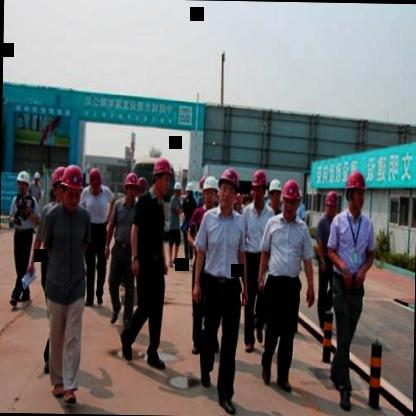helmet: (342, 168, 366, 214), (148, 152, 172, 196), (60, 165, 84, 207), (217, 165, 238, 209), (280, 176, 300, 218), (249, 166, 269, 206), (202, 172, 220, 210), (49, 166, 65, 202), (268, 176, 283, 212), (86, 165, 103, 196), (13, 167, 31, 196), (122, 170, 139, 200), (324, 188, 338, 216), (136, 176, 150, 204), (172, 178, 184, 203), (184, 178, 194, 200)
